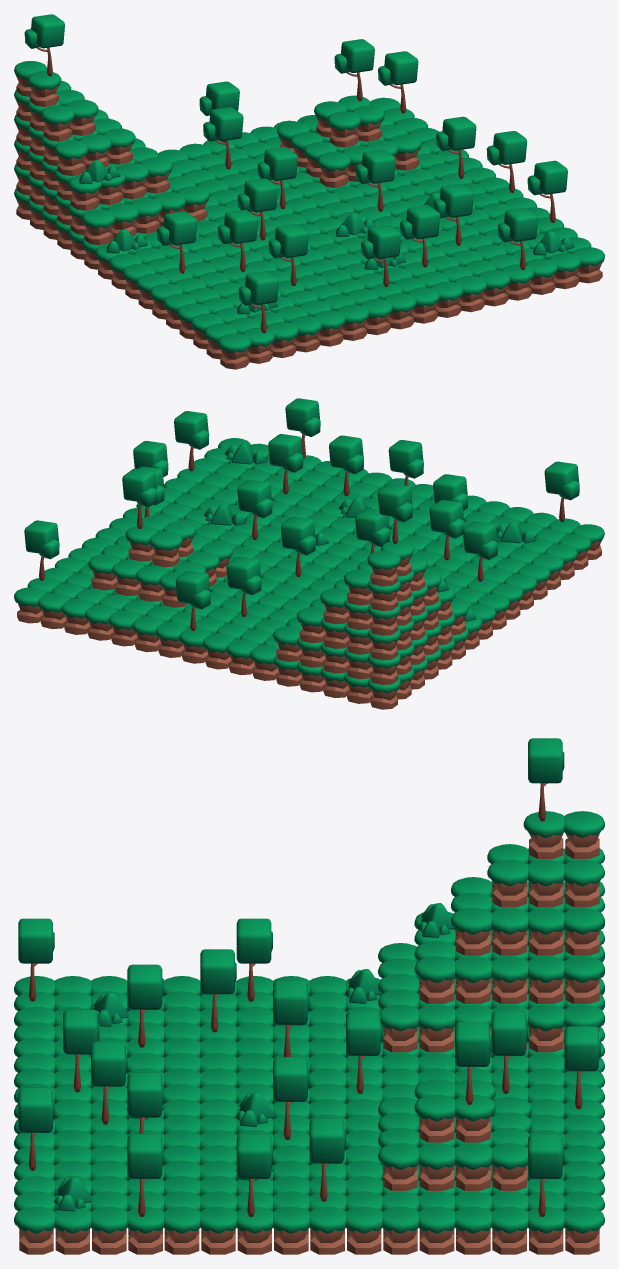
The model's file is forested1Biome.fbx.
3 renders of one model, top to bottom at view 1: azimuth 30°, elevation 25°; view 2: azimuth 150°, elevation 25°; view 3: azimuth 270°, elevation 25°, orthographic. The views are drawn at different scales.
Visible parts, largest first — view 1: Tree_2_A_Color2.004, Tree_2_A_Color2.015, Tree_2_A_Color2.017, Tree_2_A_Color2.016, Tree_2_A_Color2.001, Tree_2_A_Color2.014, Tree_2_A_Color2.006, Tree_2_A_Color2.012, Tree_2_A_Color2.020, Tree_2_A_Color2.003, Tree_2_A_Color2.021, Tree_2_A_Color2.022 (+61 smaller); view 2: Tree_2_A_Color2.001, Tree_2_A_Color2.011, Tree_2_A_Color2.006, Tree_2_A_Color2.017, Tree_2_A_Color2.004, Tree_2_A_Color2.012, Tree_2_A_Color2.018, Tree_2_A_Color2.020, Tree_2_A_Color2.003, Tree_2_A_Color2.010, Tree_2_A_Color2.014, Tree_2_A_Color2.008 (+65 smaller); view 3: Tree_2_A_Color2.014, Tree_2_A_Color2.016, Tree_2_A_Color2.015, Tree_2_A_Color2.019, Tree_2_A_Color2.008, Tree_2_A_Color2.018, Tree_2_A_Color2.020, Tree_2_A_Color2.022, Tree_2_A_Color2.006, Tree_2_A_Color2.012, Tree_2_A_Color2.013, Tree_2_A_Color2.004 (+52 smaller).
Boxes of the visible parts, x1,y1,x2,y2 form: Tree_2_A_Color2.004: (203,107,243,169); Tree_2_A_Color2.015: (268,224,308,285); Tree_2_A_Color2.017: (355,149,395,211); Tree_2_A_Color2.016: (436,116,476,178); Tree_2_A_Color2.001: (334,39,374,101); Tree_2_A_Color2.014: (157,211,197,273); Tree_2_A_Color2.006: (24,14,64,76); Tree_2_A_Color2.012: (527,160,567,222); Tree_2_A_Color2.020: (238,271,278,333); Tree_2_A_Color2.003: (378,51,418,113); Tree_2_A_Color2.021: (361,225,401,286); Tree_2_A_Color2.022: (217,209,257,271); Tree_2_A_Color2.001: (122,468,157,528); Tree_2_A_Color2.011: (268,434,303,494); Tree_2_A_Color2.006: (377,483,412,543); Tree_2_A_Color2.017: (237,479,272,539); Tree_2_A_Color2.004: (226,556,261,616); Tree_2_A_Color2.012: (174,411,209,471); Tree_2_A_Color2.018: (329,435,363,495); Tree_2_A_Color2.020: (544,461,579,521); Tree_2_A_Color2.003: (24,520,59,580); Tree_2_A_Color2.010: (280,516,315,576); Tree_2_A_Color2.014: (463,521,498,581); Tree_2_A_Color2.008: (175,570,210,630); Tree_2_A_Color2.014: (236,918,272,1001); Tree_2_A_Color2.016: (309,1118,345,1201); Tree_2_A_Color2.015: (127,964,163,1047); Tree_2_A_Color2.019: (18,1087,54,1170); Tree_2_A_Color2.008: (564,1026,600,1109); Tree_2_A_Color2.018: (91,1041,127,1124); Tree_2_A_Color2.020: (18,918,54,1001); Tree_2_A_Color2.022: (200,949,236,1032); Tree_2_A_Color2.006: (528,738,564,821); Tree_2_A_Color2.012: (127,1134,163,1216); Tree_2_A_Color2.013: (236,1134,272,1216); Tree_2_A_Color2.004: (491,1011,527,1093).
Bounding box in the file's own units: 3263 × 1667 × 3250.
